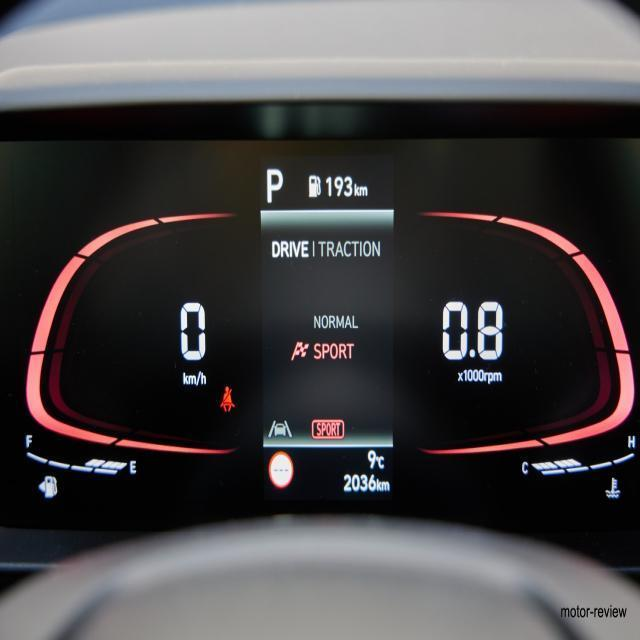LaneCenteringOff: (266, 418, 292, 438)
